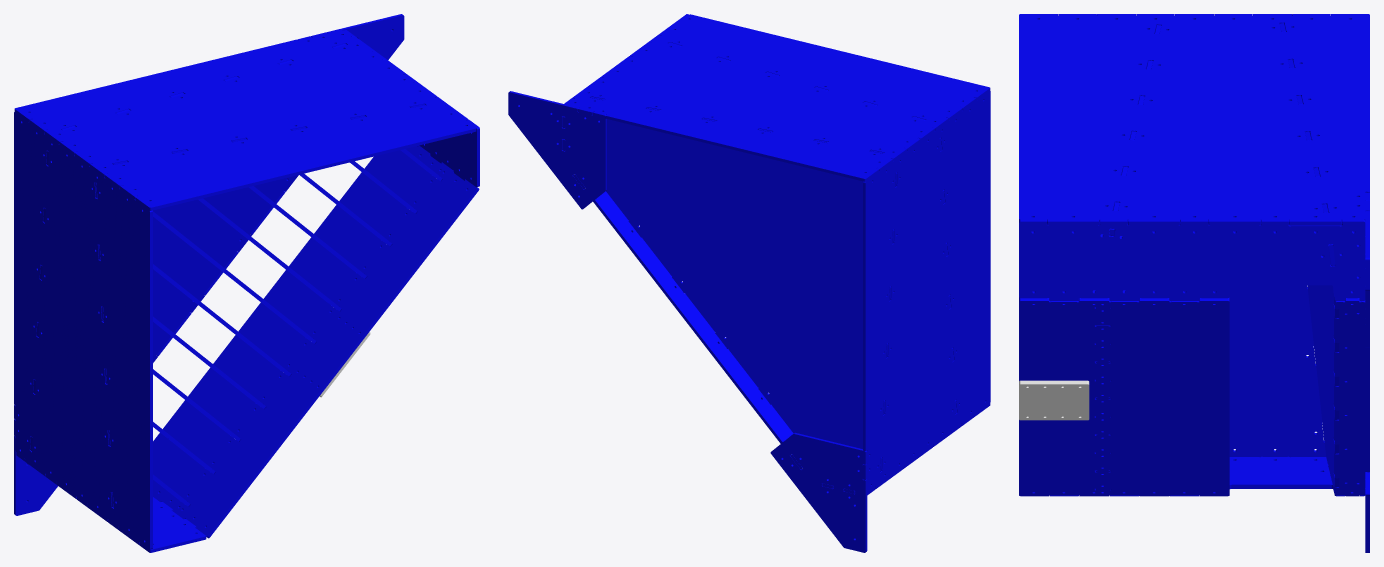
File: blue electrolyzer v3.fbx
3 renders of one model, left to right at view 1: azimuth 30°, elevation 25°; view 2: azimuth 150°, elevation 25°; view 3: azimuth 270°, elevation 25°, orthographic. The views are drawn at different scales.
Parts seen in each view (by area): view 1: Body1 (×13); view 2: Body1 (×6); view 3: Body1 (×9).
Boxes of the visible parts, <box> form: Body1 (×13): <box>14,14,479,552</box>; Body1 (×6): <box>508,14,990,552</box>; Body1 (×9): <box>1019,14,1369,496</box>.
Bounding box in the file's own units: 0.8245 × 0.8245 × 0.5.
